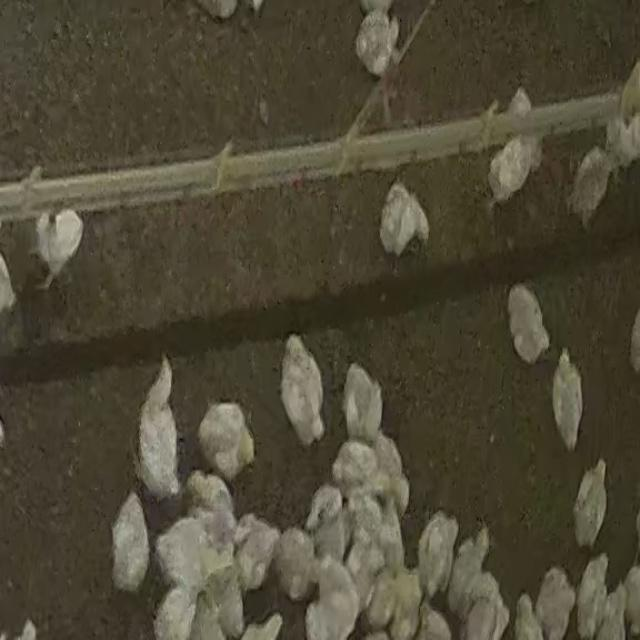chicken: (136, 357, 180, 498), (281, 332, 327, 446), (156, 520, 231, 589), (377, 173, 432, 260), (28, 207, 85, 288), (198, 404, 260, 474), (305, 560, 356, 640), (503, 282, 550, 364), (110, 492, 148, 591), (447, 527, 491, 611), (349, 11, 405, 76), (569, 145, 615, 223), (416, 510, 459, 593), (548, 347, 583, 447), (570, 459, 610, 546), (480, 143, 531, 209), (232, 517, 280, 585), (341, 364, 383, 441), (575, 553, 611, 640), (373, 434, 413, 510), (534, 567, 575, 640), (329, 444, 386, 492), (187, 472, 236, 524), (280, 525, 314, 599), (392, 572, 425, 640), (153, 590, 195, 640), (458, 598, 508, 640), (205, 579, 240, 636), (365, 569, 394, 630), (381, 504, 406, 574), (599, 580, 628, 640), (345, 531, 381, 575), (303, 487, 342, 526), (236, 613, 287, 640), (514, 593, 542, 640), (625, 567, 639, 639)
